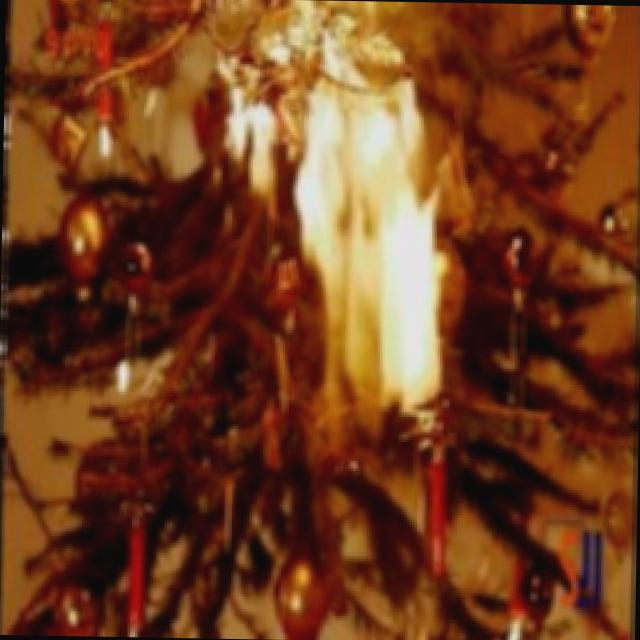fire: (198, 33, 475, 438)
